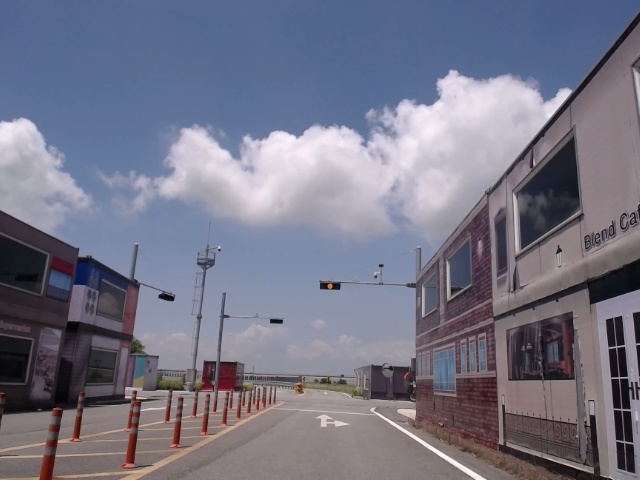orange_3: (321, 281, 341, 289)
